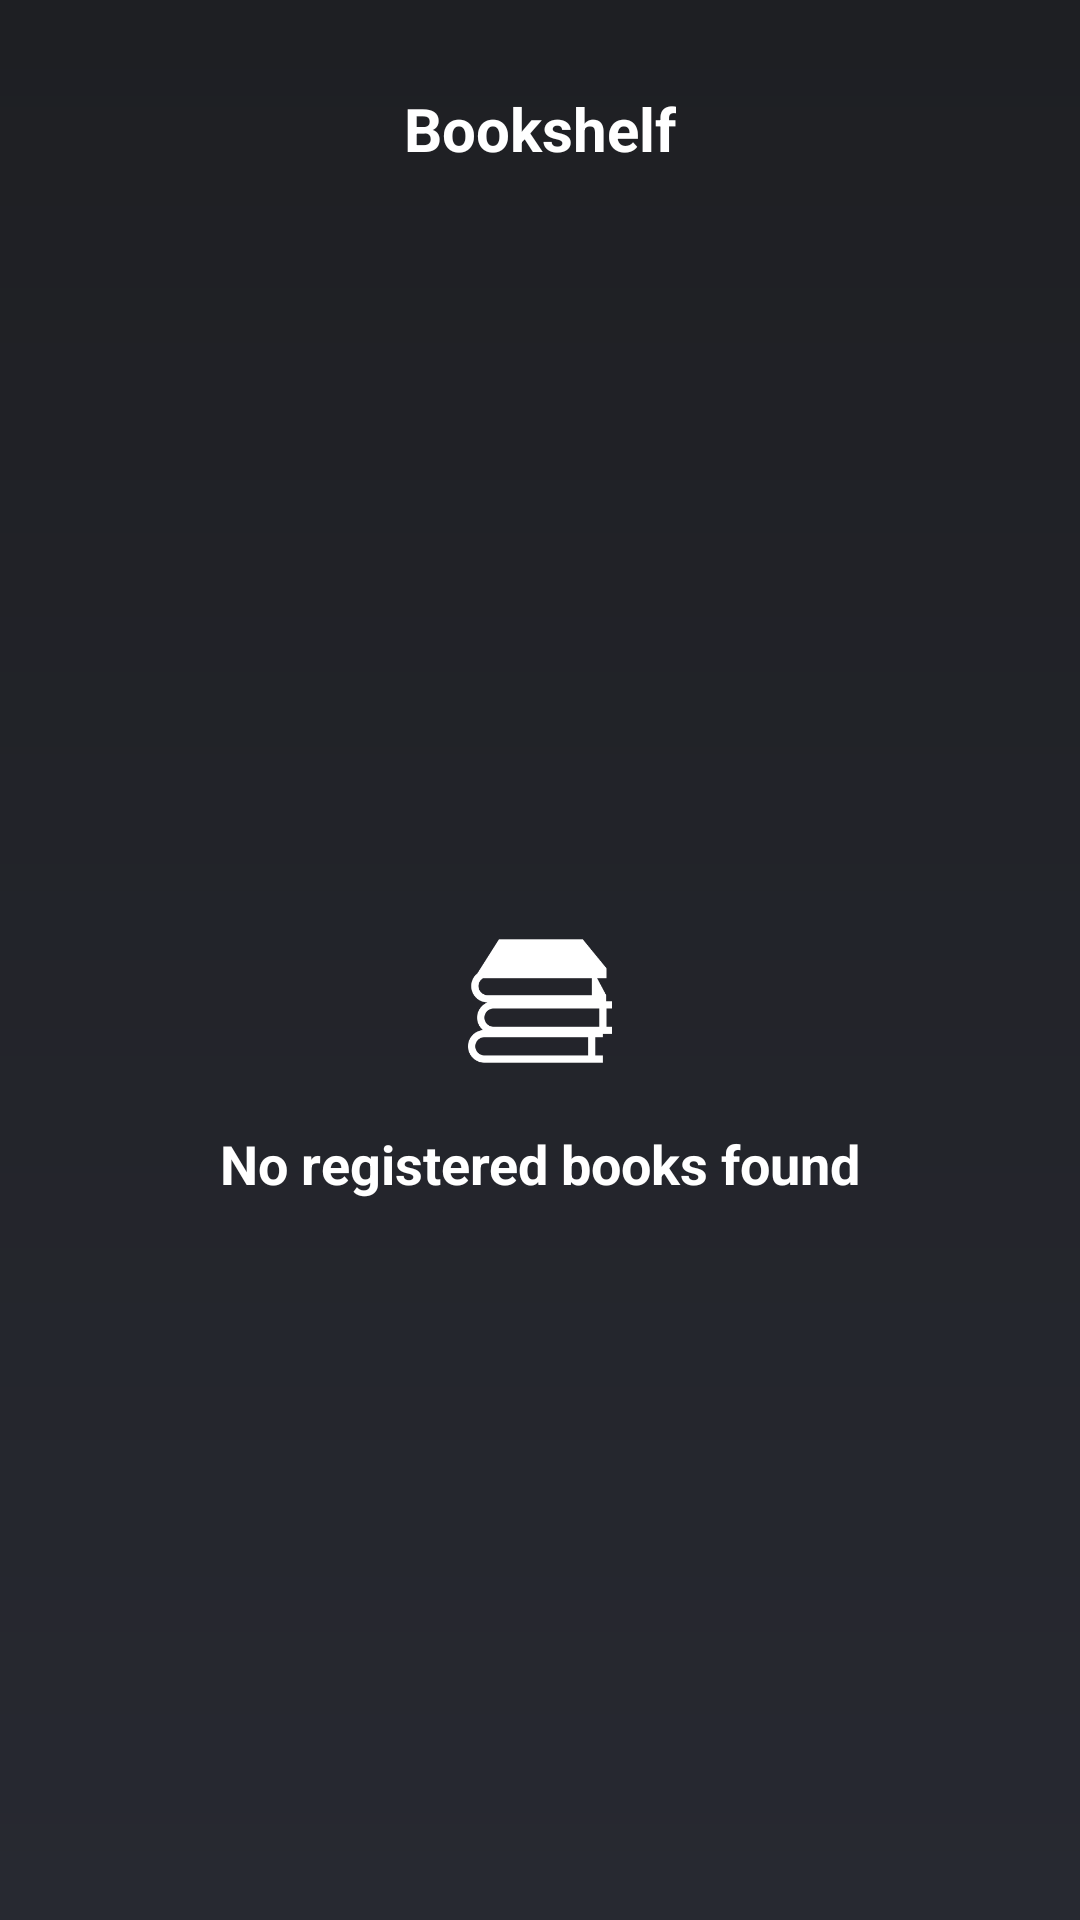

Locate icon controls on the screen. Image size 1080px×1920px, boxes as (x1, y1, x2, y2).
books stack: (468, 939, 612, 1063)
